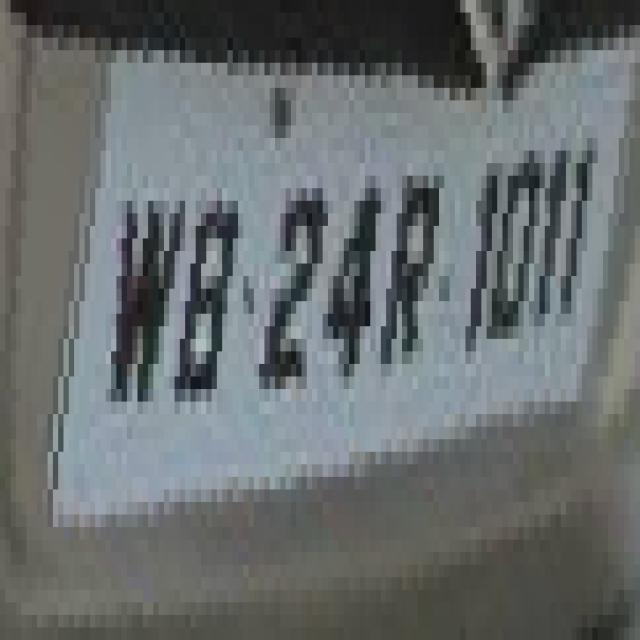license_plate: (5, 38, 592, 490)
